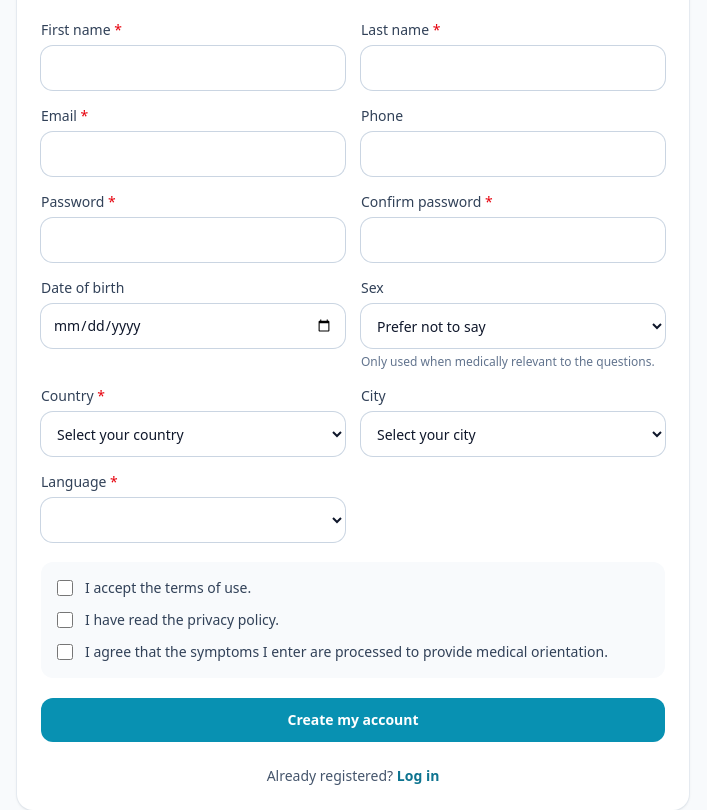
Authentication › register form blocks submission until consents are given
(page scrolled)
What coordinates should you click on to do the following:
click the button "Create my account"
I would click on:
 (353, 720)
Its box is [41,698,665,742].
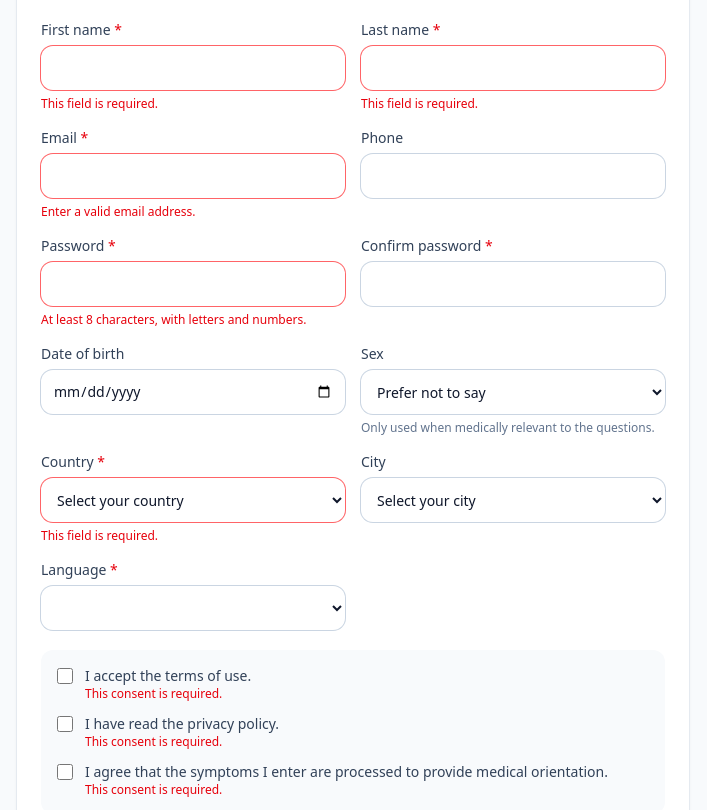
Expected: the text "This consent is required." is shown 3 times, [85,685,222,702]; [85,733,222,750]; [85,781,222,798]
